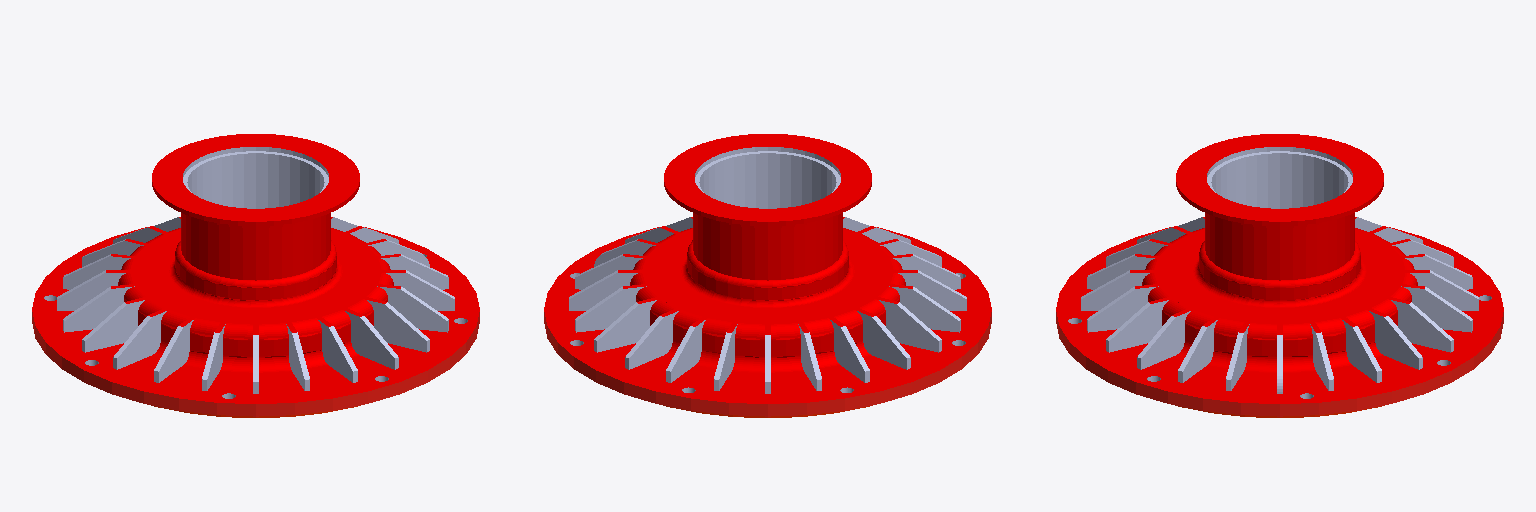
3 views of the same model, side by side, from view 1: azimuth 30°, elevation 25°; view 2: azimuth 150°, elevation 25°; view 3: azimuth 270°, elevation 25° (orthographic).
Visible parts, largest first — view 1: Part6.SLDPRT-1, Part6.SLDPRT, Part6.SLDPRT-2; view 2: Part6.SLDPRT-1, Part6.SLDPRT, Part6.SLDPRT-2; view 3: Part6.SLDPRT-1, Part6.SLDPRT, Part6.SLDPRT-2.
Part boxes in pixels (left/top/right/bottom): Part6.SLDPRT-1: left=32, top=134, right=479, bottom=403; Part6.SLDPRT: left=44, top=147, right=467, bottom=398; Part6.SLDPRT-2: left=32, top=312, right=479, bottom=416; Part6.SLDPRT-1: left=544, top=134, right=991, bottom=403; Part6.SLDPRT: left=569, top=147, right=966, bottom=393; Part6.SLDPRT-2: left=544, top=312, right=991, bottom=416; Part6.SLDPRT-1: left=1056, top=134, right=1503, bottom=403; Part6.SLDPRT: left=1068, top=147, right=1491, bottom=398; Part6.SLDPRT-2: left=1056, top=312, right=1503, bottom=416.
Bounding box in the file's own units: 228 × 88.05 × 228.